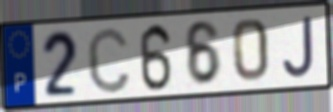0: (230, 17, 273, 84)
2: (40, 25, 84, 102)
6: (182, 19, 225, 89), (137, 21, 174, 93)
C: (84, 24, 133, 96)
J: (281, 14, 317, 81)
